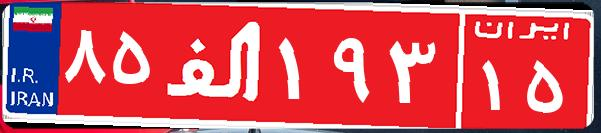1: (273, 28, 330, 110), (475, 38, 525, 113)
3: (385, 28, 445, 110)
5: (110, 28, 158, 105), (525, 38, 570, 115)
8: (57, 26, 110, 107)
9: (330, 28, 385, 110)
الف: (158, 15, 273, 115)
